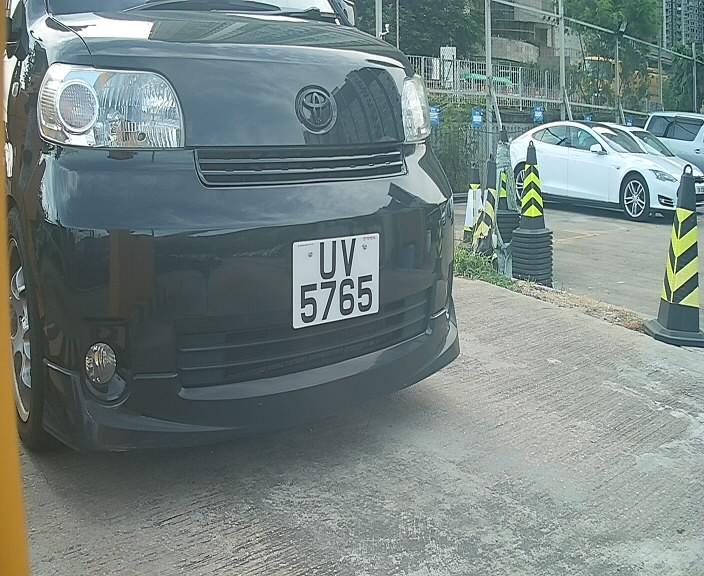privatecar: (10, 11, 472, 435)
